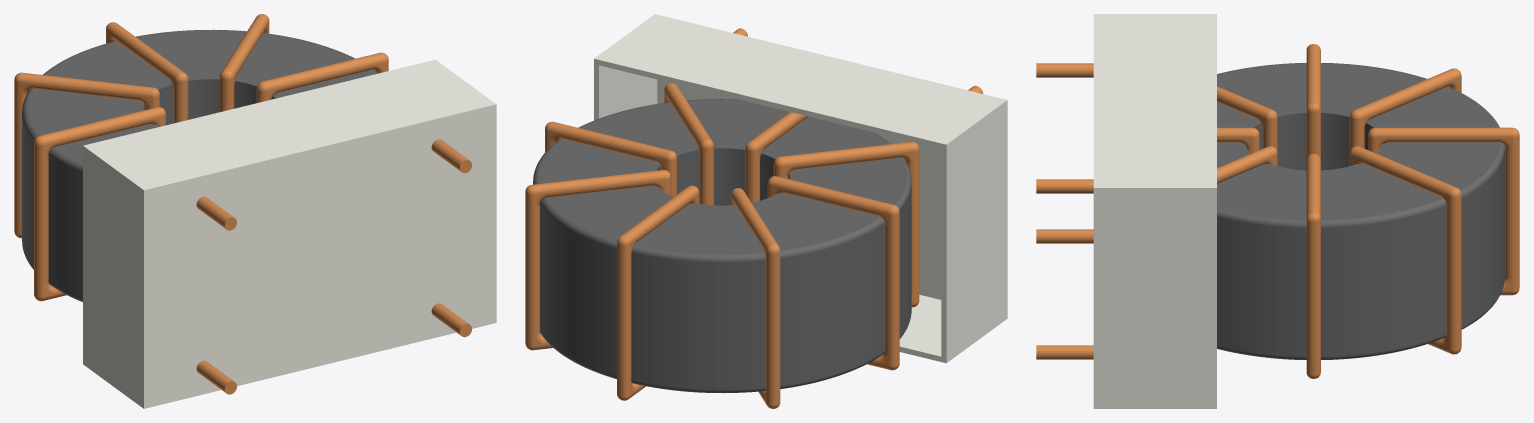
The model's file is L_CommonMode_Toroid_Vertical_L34.3mm_W20.3mm_Px15.24mm_Py22.86mm_Bourns_8100.glb.
3 views of the same model, side by side, from view 1: azimuth 30°, elevation 25°; view 2: azimuth 150°, elevation 25°; view 3: azimuth 270°, elevation 25° (orthographic).
Visible parts, largest first — view 1: Shape_IndexedFaceSet.015, Shape_IndexedFaceSet.001, Shape_IndexedFaceSet.002, Shape_IndexedFaceSet.014, Shape_IndexedFaceSet.172, Shape_IndexedFaceSet.138, Shape_IndexedFaceSet.314, Shape_IndexedFaceSet.067, Shape_IndexedFaceSet.212, Shape_IndexedFaceSet.157, Shape_IndexedFaceSet.419, Shape_IndexedFaceSet.398 (+20 smaller); view 2: Shape_IndexedFaceSet.001, Shape_IndexedFaceSet.117, Shape_IndexedFaceSet.157, Shape_IndexedFaceSet.002, Shape_IndexedFaceSet.094, Shape_IndexedFaceSet.212, Shape_IndexedFaceSet.013, Shape_IndexedFaceSet.314, Shape_IndexedFaceSet, Shape_IndexedFaceSet.138, Shape_IndexedFaceSet.355, Shape_IndexedFaceSet.078 (+39 smaller); view 3: Shape_IndexedFaceSet.004, Shape_IndexedFaceSet.001, Shape_IndexedFaceSet.069, Shape_IndexedFaceSet.080, Shape_IndexedFaceSet.094, Shape_IndexedFaceSet.067, Shape_IndexedFaceSet.078, Shape_IndexedFaceSet.138, Shape_IndexedFaceSet.314, Shape_IndexedFaceSet.355, Shape_IndexedFaceSet.212, Shape_IndexedFaceSet.427 (+29 smaller).
Part boxes in pixels (x1,y1,x2,y2): Shape_IndexedFaceSet.015: [149, 111, 491, 402]; Shape_IndexedFaceSet.001: [83, 59, 493, 187]; Shape_IndexedFaceSet.002: [83, 146, 140, 406]; Shape_IndexedFaceSet.014: [144, 104, 496, 408]; Shape_IndexedFaceSet.172: [48, 154, 82, 299]; Shape_IndexedFaceSet.138: [136, 30, 246, 80]; Shape_IndexedFaceSet.314: [28, 88, 144, 135]; Shape_IndexedFaceSet.067: [235, 33, 353, 86]; Shape_IndexedFaceSet.212: [45, 41, 171, 89]; Shape_IndexedFaceSet.157: [22, 105, 33, 267]; Shape_IndexedFaceSet.419: [35, 144, 44, 297]; Shape_IndexedFaceSet.398: [19, 73, 152, 97]; Shape_IndexedFaceSet.001: [594, 16, 1004, 144]; Shape_IndexedFaceSet.117: [631, 252, 765, 389]; Shape_IndexedFaceSet.157: [780, 223, 885, 385]; Shape_IndexedFaceSet.002: [946, 102, 1004, 362]; Shape_IndexedFaceSet.094: [540, 204, 616, 375]; Shape_IndexedFaceSet.212: [634, 203, 764, 254]; Shape_IndexedFaceSet.013: [657, 79, 941, 299]; Shape_IndexedFaceSet.314: [751, 193, 879, 250]; Shape_IndexedFaceSet: [594, 59, 946, 363]; Shape_IndexedFaceSet.138: [546, 186, 673, 240]; Shape_IndexedFaceSet.355: [789, 157, 905, 204]; Shape_IndexedFaceSet.078: [580, 102, 698, 155]; Shape_IndexedFaceSet.004: [1099, 188, 1216, 408]; Shape_IndexedFaceSet.001: [1099, 14, 1216, 187]; Shape_IndexedFaceSet.069: [1321, 205, 1446, 356]; Shape_IndexedFaceSet.080: [1217, 217, 1306, 356]; Shape_IndexedFaceSet.094: [1461, 151, 1504, 326]; Shape_IndexedFaceSet.067: [1321, 164, 1442, 219]; Shape_IndexedFaceSet.078: [1217, 164, 1306, 219]; Shape_IndexedFaceSet.138: [1376, 142, 1498, 189]; Shape_IndexedFaceSet.314: [1321, 63, 1425, 116]; Shape_IndexedFaceSet.355: [1217, 63, 1306, 116]; Shape_IndexedFaceSet.212: [1366, 87, 1495, 127]; Shape_IndexedFaceSet.427: [1277, 113, 1306, 170].
Size of the model in its own units: 13.5 by 8 by 15.84.
